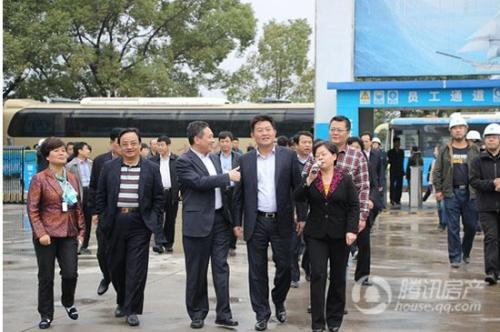boots: (64, 304, 78, 320), (96, 278, 109, 295), (275, 304, 287, 322), (215, 318, 238, 326), (485, 272, 497, 284), (127, 313, 139, 325), (255, 319, 267, 331), (114, 304, 125, 317), (190, 318, 204, 328), (39, 318, 51, 329), (362, 278, 372, 286), (450, 261, 461, 268), (328, 326, 340, 332), (153, 246, 164, 252), (290, 280, 298, 288), (312, 328, 325, 332), (463, 256, 470, 263)
hard-hat: (449, 115, 468, 130), (483, 122, 500, 137)
person: (231, 115, 302, 331), (95, 127, 166, 326), (175, 120, 242, 328), (293, 140, 361, 331), (26, 136, 87, 328), (431, 111, 481, 268), (468, 123, 500, 285), (150, 134, 181, 252), (213, 130, 242, 255)
